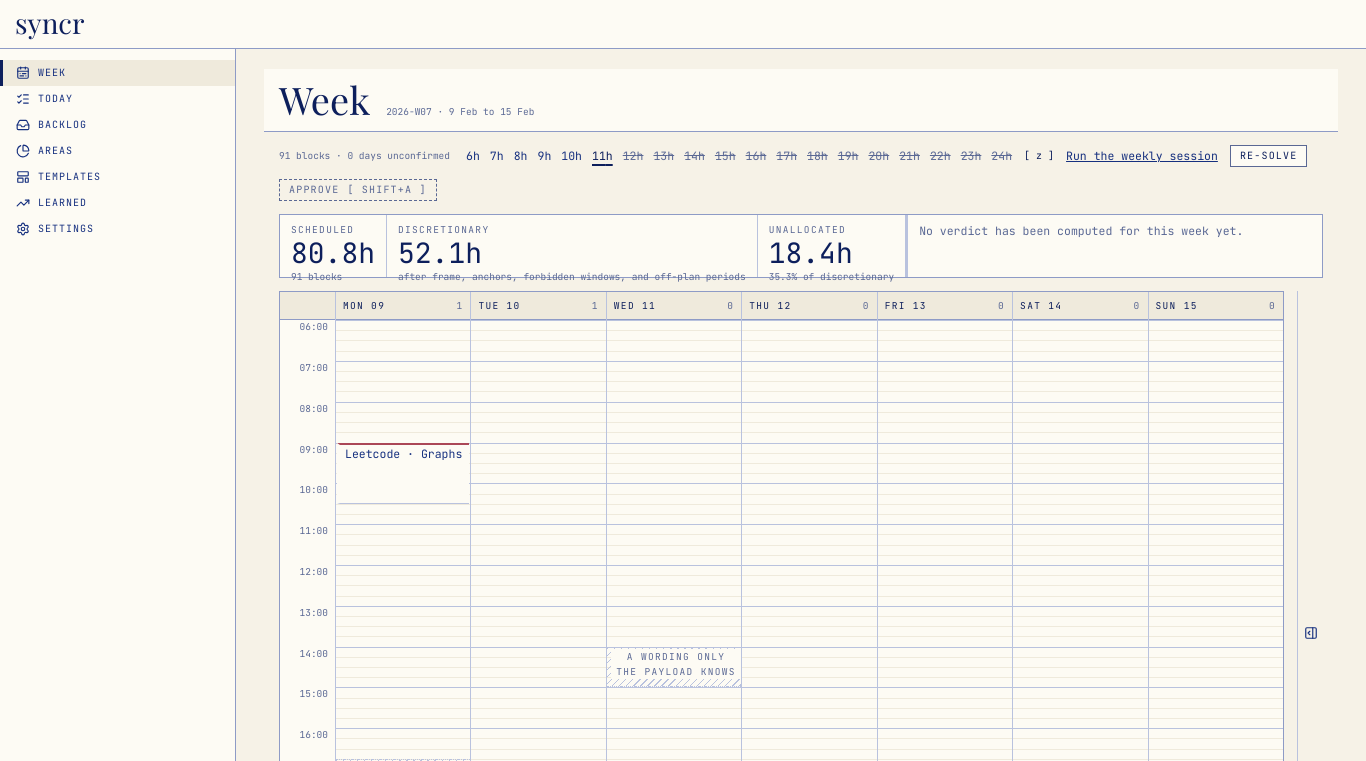
the seam, from the gutter label to the prefilled form › presses the label on the week screen and lands in a prefilled capture
Click the button "a wording only the payload knows" at [676, 664], box [611,649,741,679]
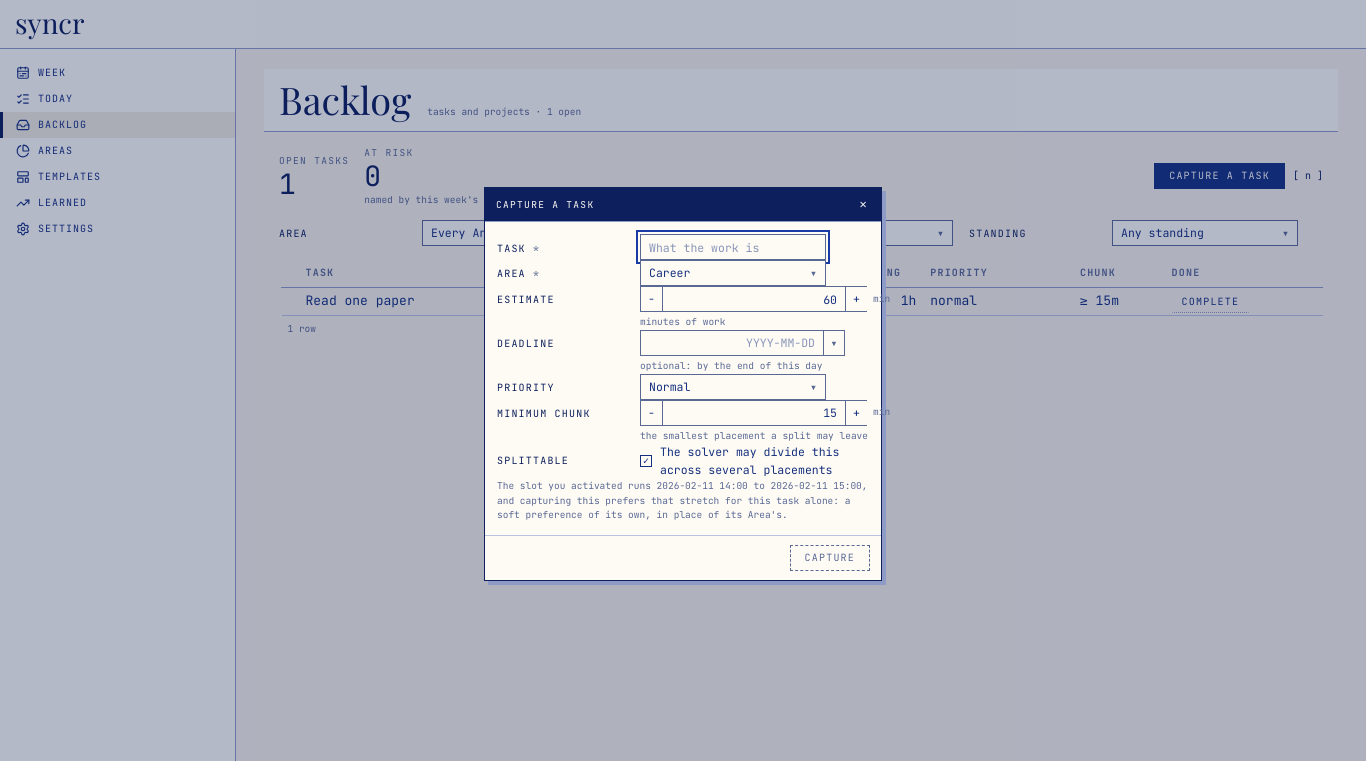
Check: the dropdown named "Area" reads "Career", box [640,260,826,286]
Check: the number field labelled "Estimate" holds "60", box [662,286,845,312]
Check: the text "slot you activated" shows "2026-02-11 14:00 to 2026-02-11 15:00", box [657,479,862,492]
